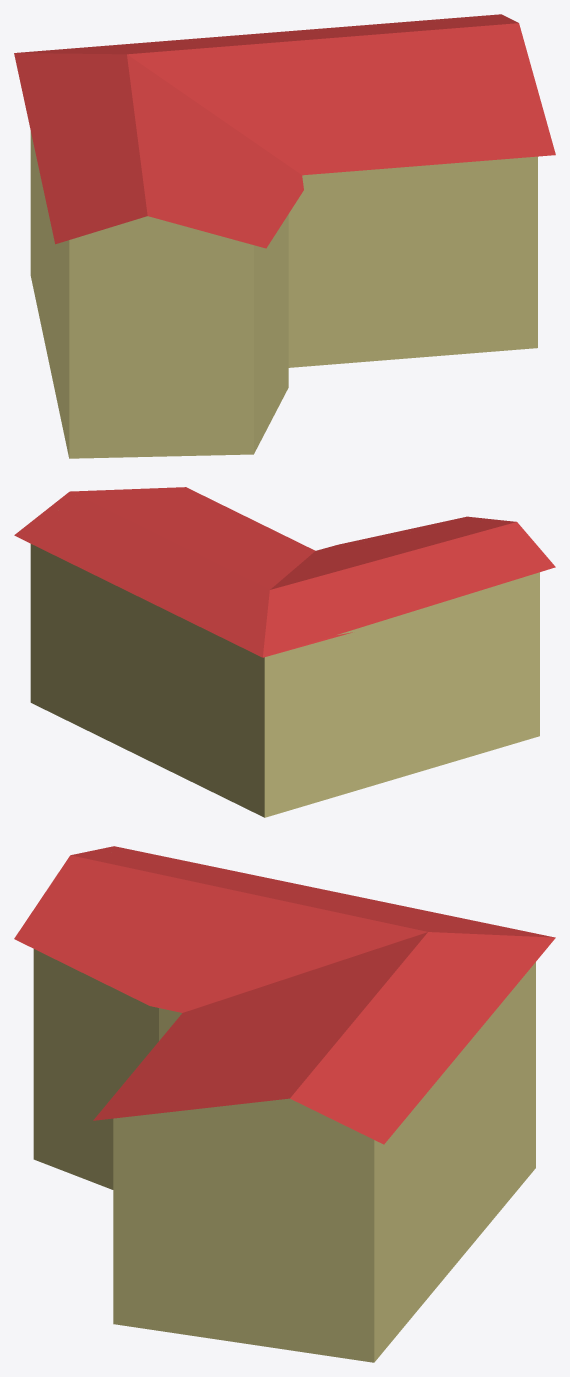
3 views of the same model, one above another, from view 1: azimuth 30°, elevation 25°; view 2: azimuth 150°, elevation 25°; view 3: azimuth 270°, elevation 25° (orthographic). The views are drawn at different scales.
Size of the model in its own units: 21.66 by 16.88 by 8.9.
